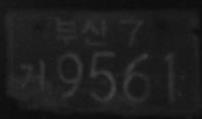1: (156, 51, 184, 103)
5: (89, 50, 116, 102)
6: (123, 51, 153, 105)
7: (118, 17, 146, 47)
9: (56, 52, 83, 99)
거: (19, 58, 45, 92)
부산_O: (55, 15, 109, 47)
